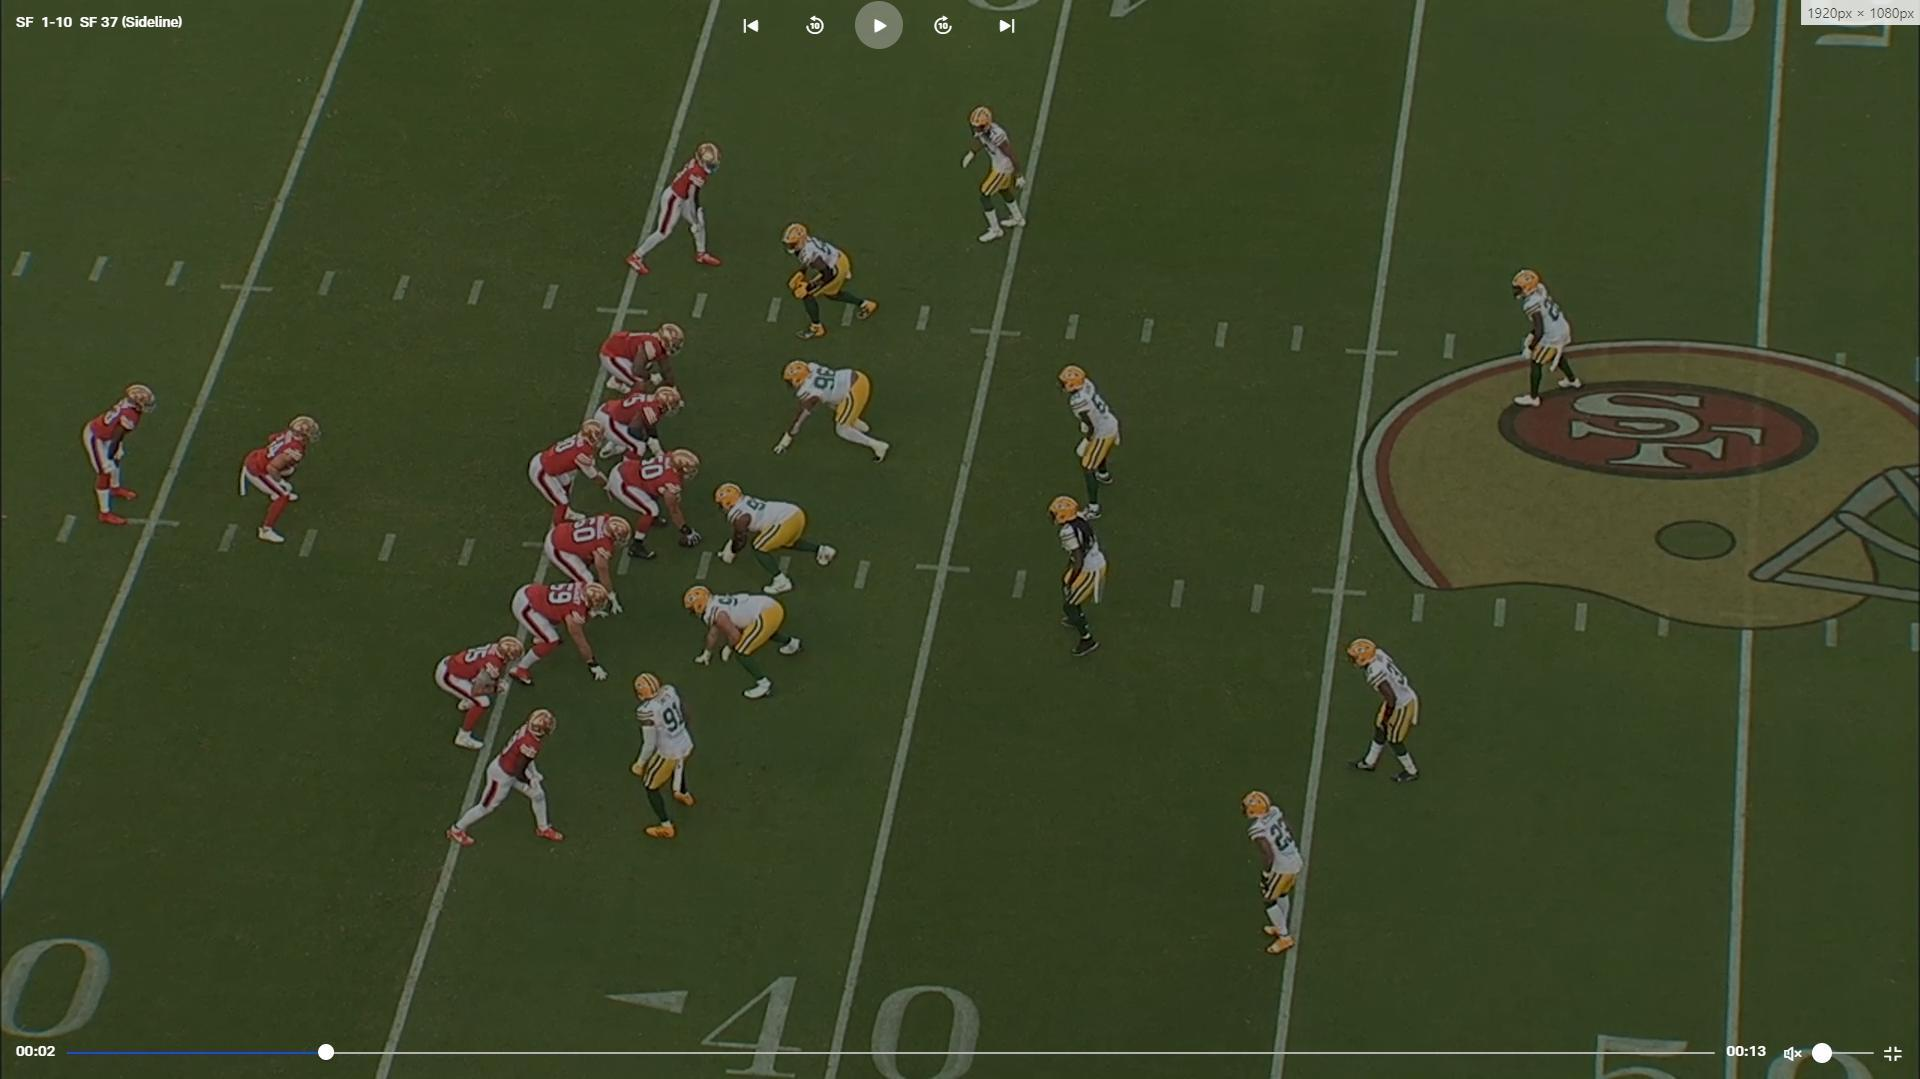player: (457, 705, 571, 848), (678, 581, 801, 705), (623, 143, 727, 283), (707, 480, 834, 594), (1351, 636, 1435, 793), (779, 357, 897, 462), (1239, 789, 1313, 956), (781, 218, 883, 339), (632, 667, 702, 842), (73, 377, 152, 525), (431, 633, 523, 760), (1506, 266, 1583, 412), (238, 415, 319, 552), (1047, 498, 1113, 666), (504, 581, 608, 687), (1056, 359, 1125, 510), (606, 448, 700, 554), (961, 102, 1025, 247), (542, 516, 627, 623), (528, 421, 608, 526), (594, 388, 686, 466), (599, 325, 687, 399)
